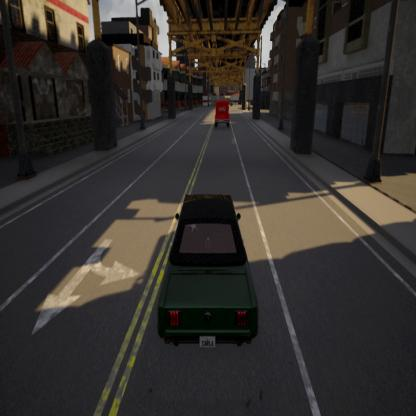Cars: (158, 194, 259, 351), (214, 99, 232, 128)
